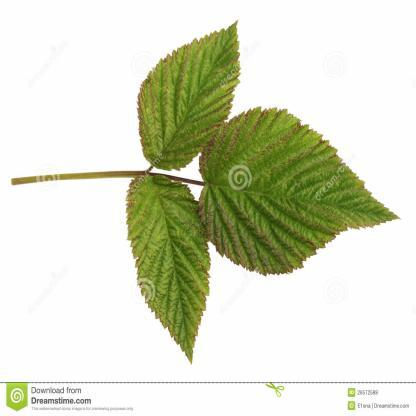Raspberry leaf: (198, 107, 405, 277), (126, 173, 216, 368), (136, 19, 241, 176)
